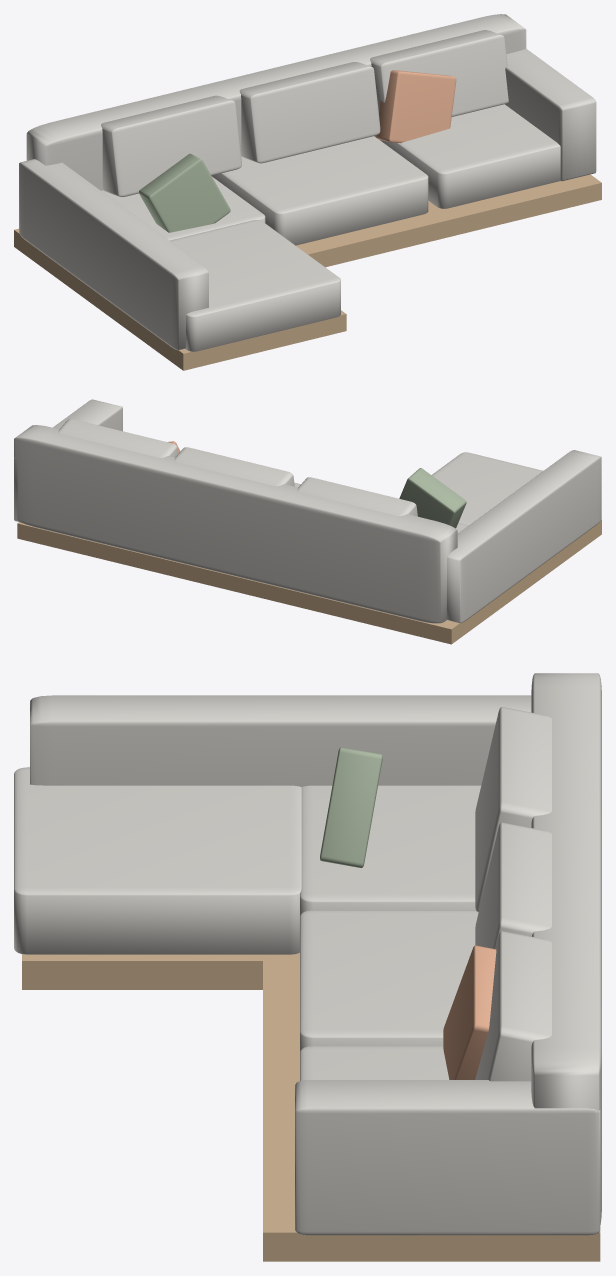
File: sofa_sectional.glb
3 renders of one model, top to bottom at view 1: azimuth 30°, elevation 25°; view 2: azimuth 150°, elevation 25°; view 3: azimuth 270°, elevation 25°, orthographic. The views are drawn at different scales.
Parts seen in each view (by area): view 1: Cube.008, Cube.003, Cube.005, Cube.004, Cube.006, Cube.010, Cube, Cube.009, Cube.007, Cube.011, Cube.012, Cube.013 (+2 smaller); view 2: Cube.006, Cube.008, Cube, Cube.005, Cube.013, Cube.010, Cube.009, Cube.011, Cube.007, Cube.001; view 3: Cube.005, Cube.007, Cube.008, Cube.006, Cube.003, Cube, Cube.002, Cube.001, Cube.009, Cube.011, Cube.010, Cube.013 (+2 smaller).
Part boxes in pixels (bbox=[...]): Cube.008: bbox=[19, 159, 208, 350]; Cube.003: bbox=[211, 136, 428, 245]; Cube.005: bbox=[169, 220, 340, 351]; Cube.004: bbox=[374, 104, 560, 208]; Cube.006: bbox=[26, 14, 526, 190]; Cube.010: bbox=[239, 62, 380, 163]; Cube: bbox=[14, 174, 601, 318]; Cube.009: bbox=[101, 95, 241, 197]; Cube.007: bbox=[505, 48, 596, 181]; Cube.011: bbox=[370, 30, 508, 116]; Cube.012: bbox=[376, 70, 456, 143]; Cube.013: bbox=[139, 153, 230, 232]; Cube.006: bbox=[14, 425, 457, 623]; Cube.008: bbox=[446, 450, 601, 623]; Cube: bbox=[17, 522, 539, 644]; Cube.005: bbox=[431, 452, 543, 525]; Cube.013: bbox=[399, 468, 466, 528]; Cube.010: bbox=[174, 447, 294, 486]; Cube.009: bbox=[297, 477, 417, 516]; Cube.011: bbox=[58, 419, 178, 457]; Cube.007: bbox=[14, 399, 122, 522]; Cube.001: bbox=[531, 519, 601, 585]; Cube.005: bbox=[14, 767, 301, 954]; Cube.007: bbox=[295, 1080, 600, 1235]; Cube.008: bbox=[30, 695, 531, 786]; Cube.006: bbox=[531, 673, 601, 1224]; Cube.003: bbox=[300, 910, 478, 1051]; Cube: bbox=[263, 952, 600, 1261]; Cube.002: bbox=[300, 785, 480, 915]; Cube.001: bbox=[22, 954, 294, 989]; Cube.009: bbox=[475, 707, 551, 912]; Cube.011: bbox=[475, 931, 551, 1081]; Cube.010: bbox=[475, 822, 551, 949]; Cube.013: bbox=[320, 747, 382, 867].
Bounding box in the file's own units: 3.05 × 0.7127 × 1.83.
